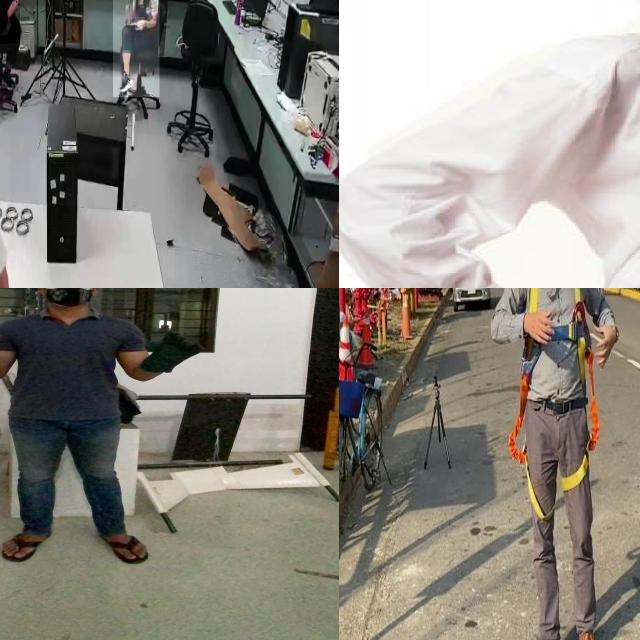Harness: (508, 335, 555, 521), (551, 288, 600, 452)
face_mask: (39, 288, 97, 307)
hand_glove: (145, 331, 204, 374)
hand_noglove: (135, 17, 145, 31)
person: (0, 288, 168, 572), (534, 0, 640, 288), (113, 0, 160, 98)
shoes: (118, 68, 134, 95), (1, 66, 14, 92)
